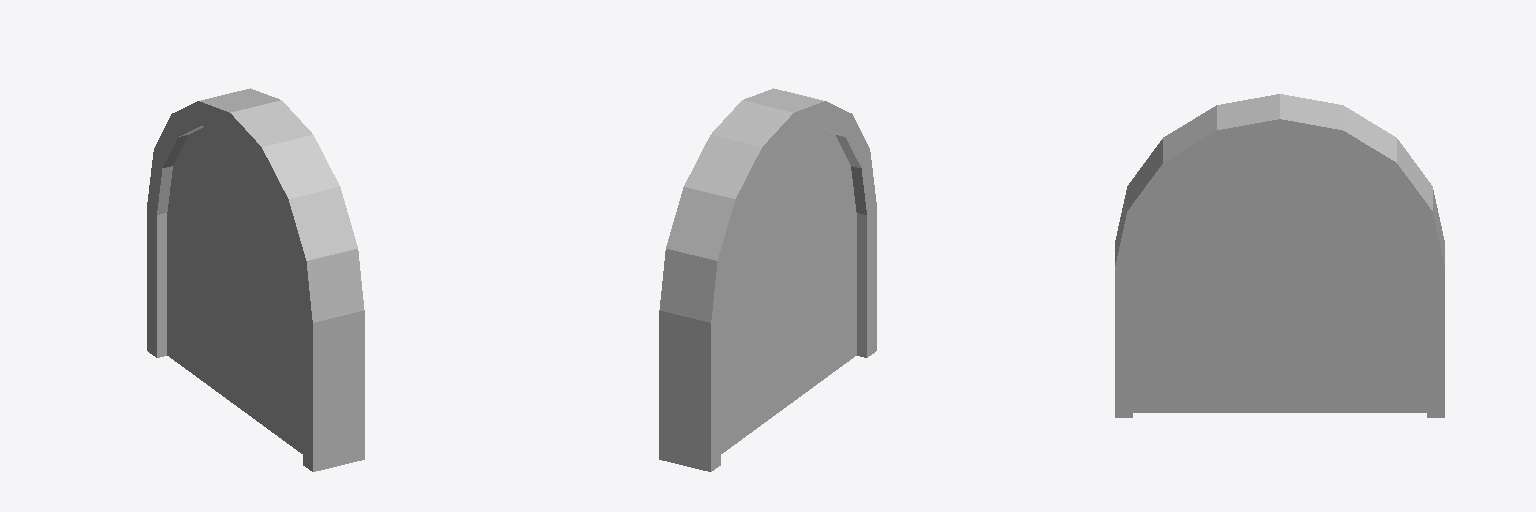
Rendered from door2.obj.
The picture shows the model from 3 angles: view 1: azimuth 30°, elevation 25°; view 2: azimuth 150°, elevation 25°; view 3: azimuth 270°, elevation 25°; orthographic projection.
Parts seen in each view (by area): view 1: Cylinder.002; view 2: Cylinder.002; view 3: Cylinder.002.
Boxes of the visible parts, x1=… form: Cylinder.002: x1=147, y1=88, x2=364, y2=471; Cylinder.002: x1=659, y1=88, x2=876, y2=471; Cylinder.002: x1=1115, y1=94, x2=1444, y2=417.
Bounding box in the file's own units: 0.3615 × 2 × 2.